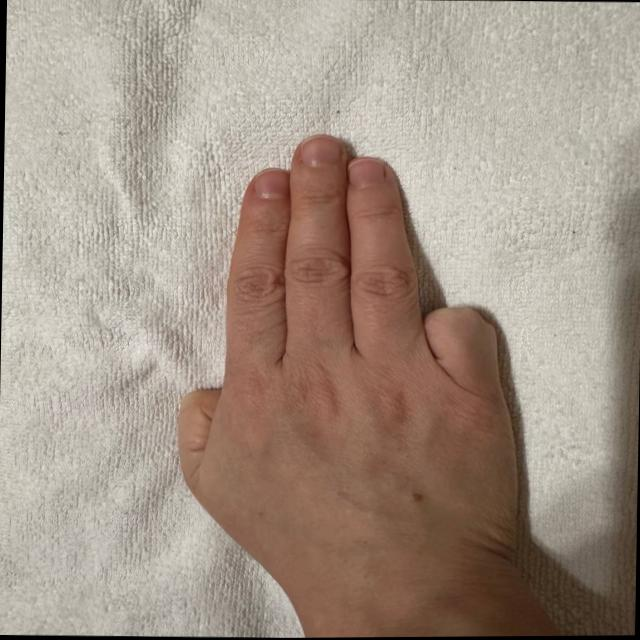t: (161, 108, 530, 534)
